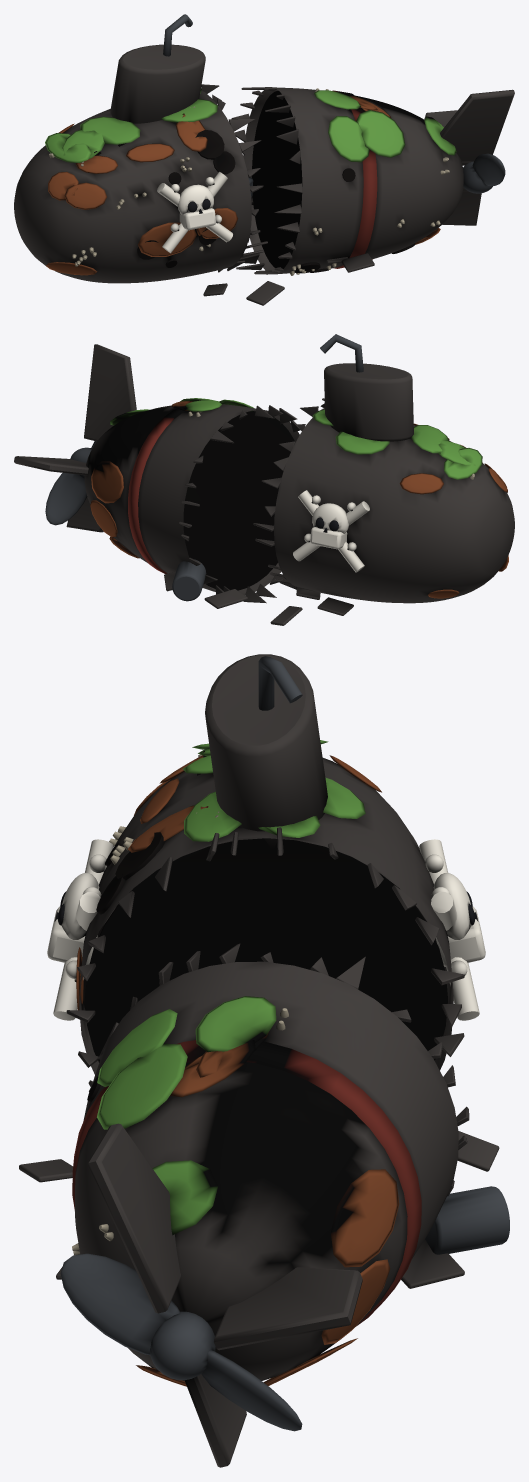
Rendered from wreck_sub.glb.
3 renders of one model, top to bottom at view 1: azimuth 30°, elevation 25°; view 2: azimuth 150°, elevation 25°; view 3: azimuth 270°, elevation 25°, orthographic. The views are drawn at different scales.
Parts seen in each view (by area): view 1: wreck_front, wreck_rear, wreck_debris, wreck_prop; view 2: wreck_front, wreck_rear, wreck_debris, wreck_prop; view 3: wreck_rear, wreck_front, wreck_prop, wreck_debris.
Boxes of the visible parts, left/top/right/bottom form: wreck_front: left=14, top=14, right=267, bottom=283; wreck_rear: left=231, top=87, right=514, bottom=275; wreck_debris: left=203, top=177, right=374, bottom=305; wreck_prop: left=463, top=153, right=505, bottom=193; wreck_front: left=253, top=334, right=514, bottom=603; wreck_rear: left=14, top=344, right=300, bottom=603; wreck_debris: left=164, top=559, right=353, bottom=625; wreck_prop: left=45, top=441, right=96, bottom=525; wreck_rear: left=72, top=943, right=469, bottom=1467; wreck_front: left=47, top=654, right=485, bottom=1086; wreck_prop: left=60, top=1253, right=302, bottom=1431; wreck_debris: left=19, top=1131, right=509, bottom=1288.
Size of the model in its own units: 10.81 by 6.18 by 4.98.
